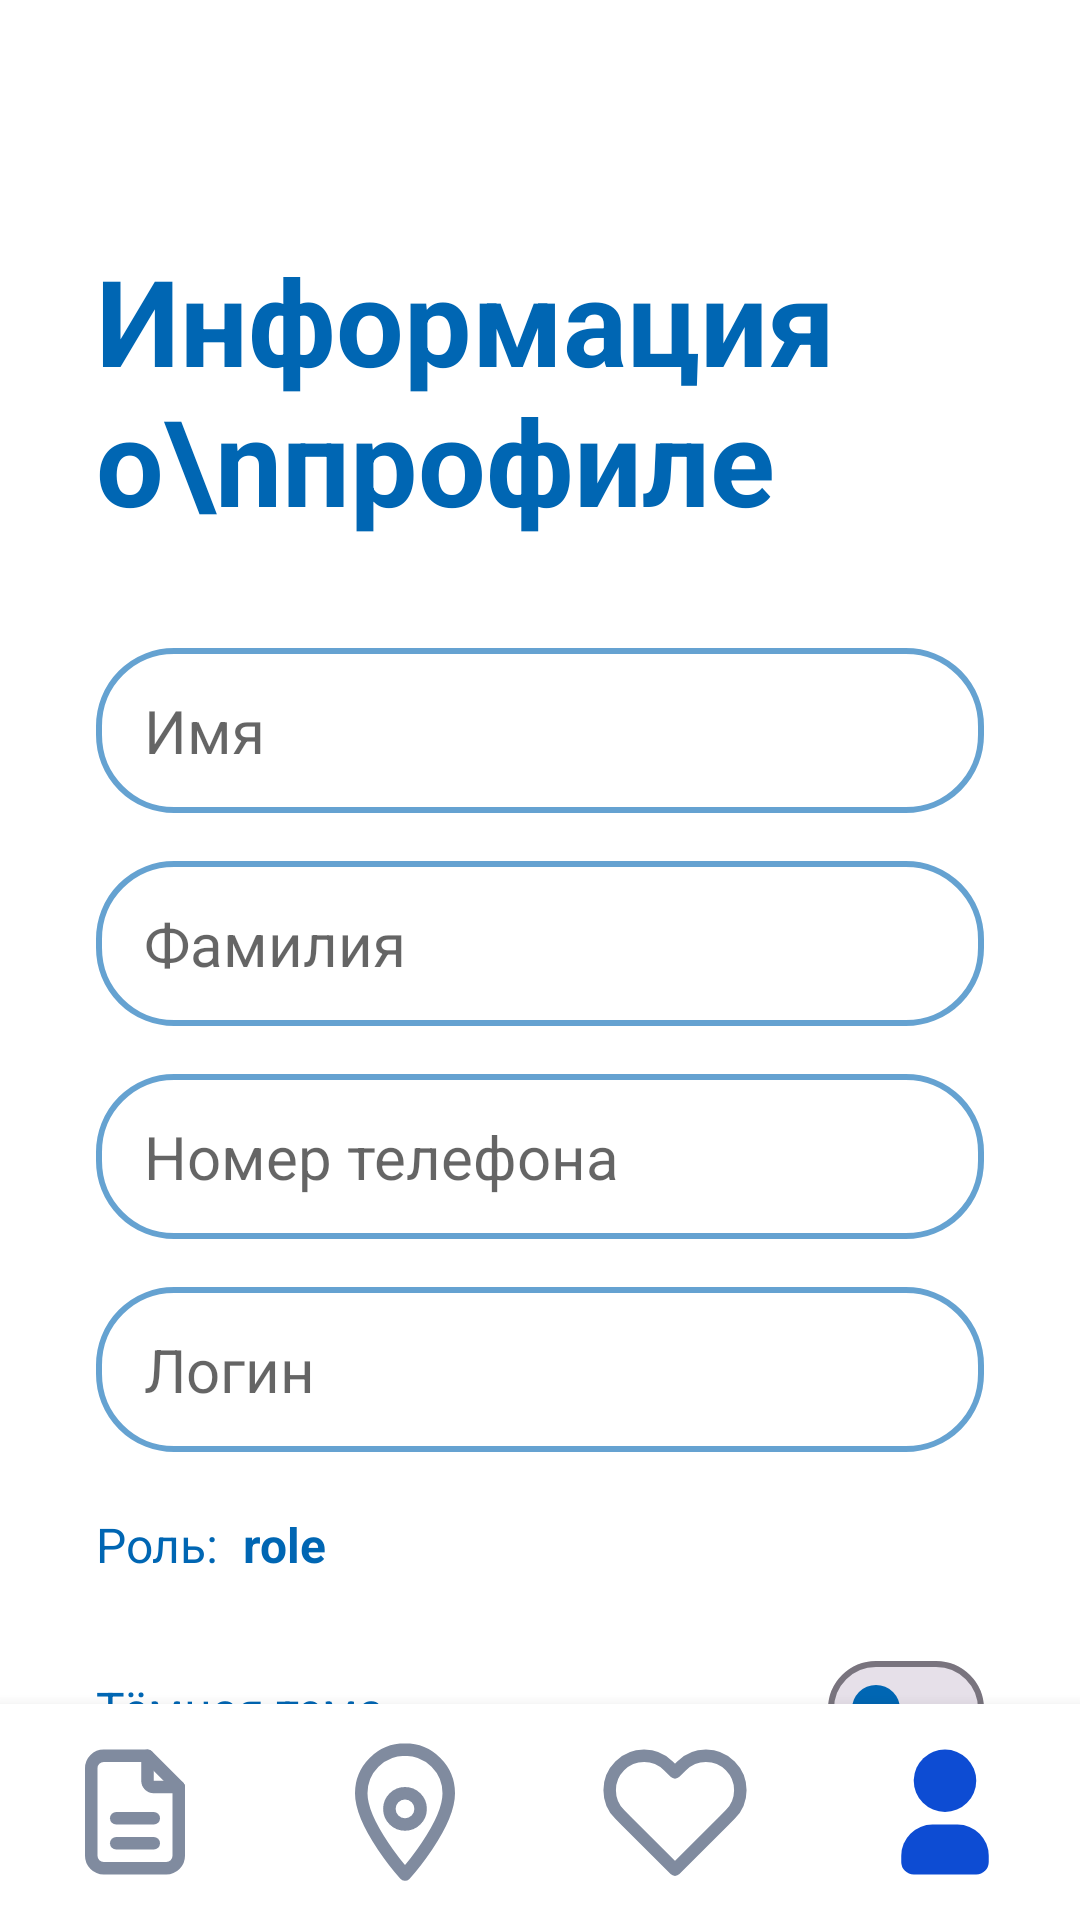

Icon bounding boxes for this 1080 × 1920 phone screenshot, format [x1=x1, y1=y1, x2=x2, y2=y2]:
news: [x1=85, y1=1749, x2=185, y2=1875]
places: [x1=355, y1=1743, x2=455, y2=1881]
profileselected: [x1=901, y1=1749, x2=989, y2=1875]
recommendations: [x1=603, y1=1749, x2=747, y2=1876]
